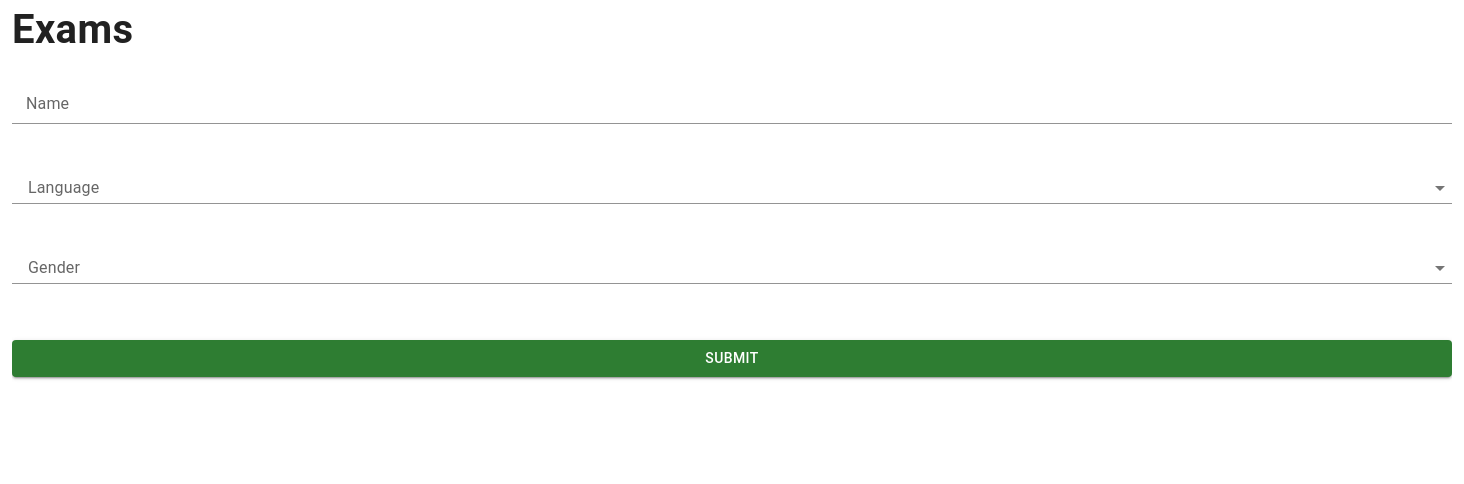
Test case: should render "Home" › only render errors if errors are there
The width and height of the screenshot is (1464, 484).
Expected: the text "Please Fill the forms first" is not shown
What coordinates should you click on to do the following:
click the button "Submit"
I would click on:
 (732, 358)
Its box is [12,340,1452,376].
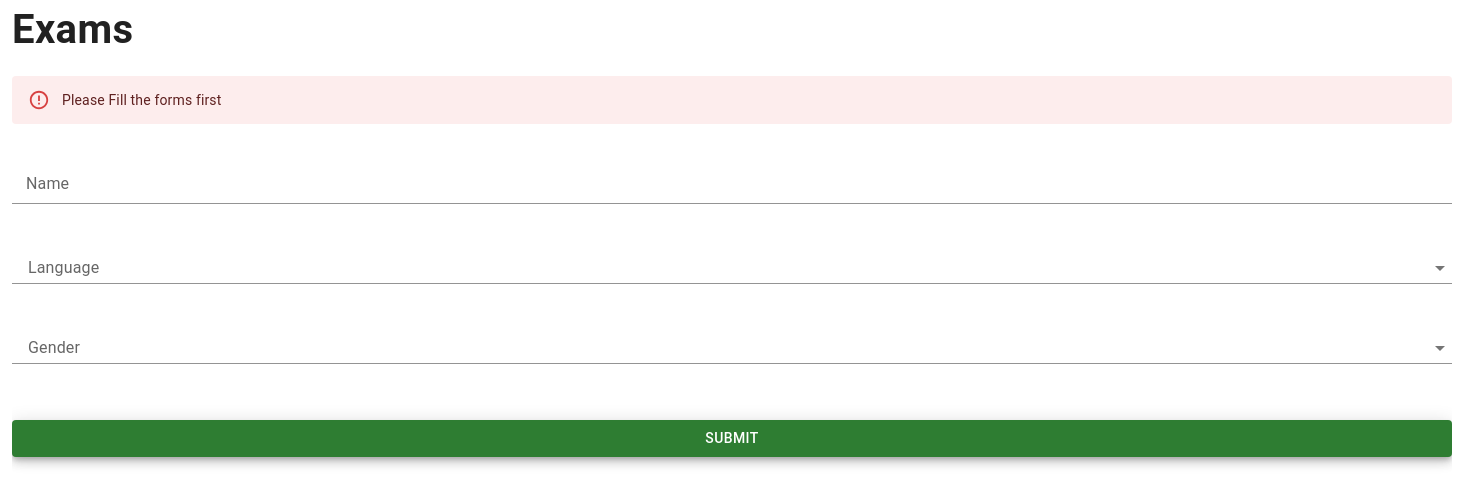
Expected: the text "Please Fill the forms first" is shown, [62,92,222,108]
